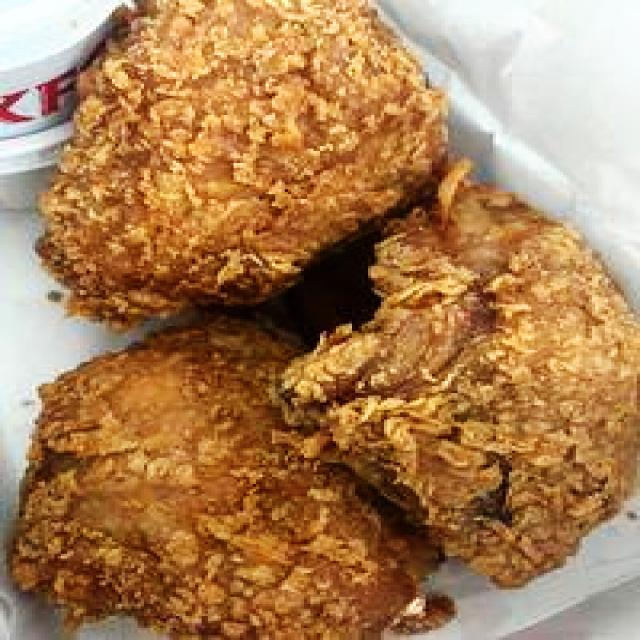fried_chicken: (285, 192, 640, 587), (19, 316, 419, 636), (35, 5, 448, 312)
